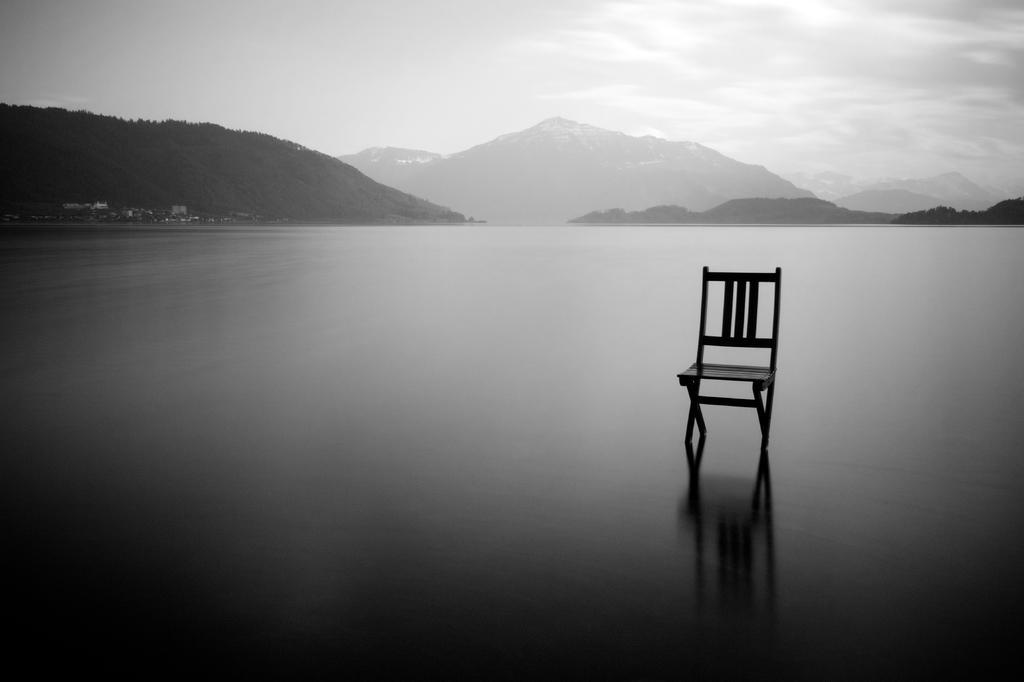Chair: (677, 303, 787, 448)
